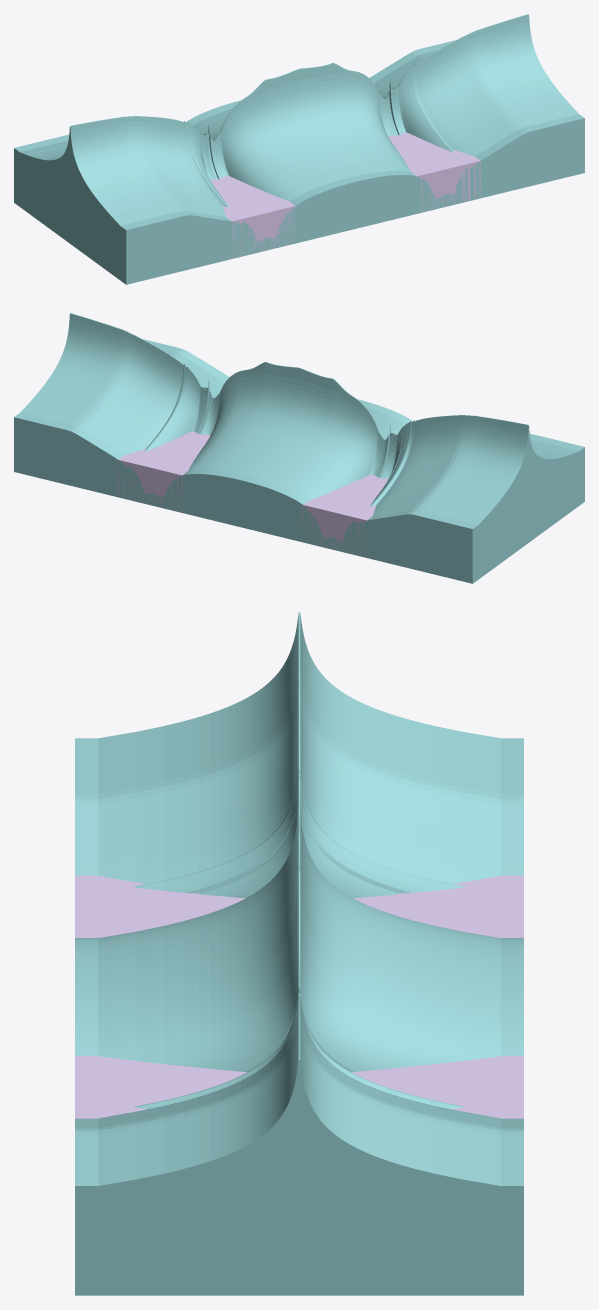
File: cfl-relief.glb
3 views of the same model, one above another, from view 1: azimuth 30°, elevation 25°; view 2: azimuth 150°, elevation 25°; view 3: azimuth 270°, elevation 25° (orthographic). The views are drawn at different scales.
Visible parts, largest first — view 1: Moment5Fixed, Moment1Fixed, Moment1Shelf, Moment2Fixed, Moment3Fixed, Moment1Valley, Moment4Fixed; view 2: Moment5Fixed, Moment1Fixed, Moment2Fixed, Moment1Shelf, Moment3Fixed, Moment1Valley, Moment4Fixed, Moment2Valley, Moment3Valley, Moment4Valley; view 3: Moment5Fixed, Moment1Fixed, Moment1Shelf, Moment2Fixed, Moment3Fixed, Moment4Fixed, Moment5Shelf.
Part boxes in pixels (x1=…): Moment5Fixed: x1=14, y1=14, x2=578, y2=278; Moment1Fixed: x1=14, y1=94, x2=584, y2=284; Moment1Shelf: x1=211, y1=82, x2=480, y2=258; Moment2Fixed: x1=14, y1=148, x2=399, y2=275; Moment3Fixed: x1=14, y1=95, x2=414, y2=276; Moment1Valley: x1=232, y1=162, x2=480, y2=258; Moment4Fixed: x1=14, y1=137, x2=404, y2=275; Moment5Fixed: x1=14, y1=313, x2=578, y2=581; Moment1Fixed: x1=14, y1=339, x2=584, y2=583; Moment2Fixed: x1=14, y1=415, x2=578, y2=582; Moment1Shelf: x1=116, y1=381, x2=388, y2=557; Moment3Fixed: x1=14, y1=394, x2=578, y2=581; Moment1Valley: x1=116, y1=460, x2=368, y2=558; Moment4Fixed: x1=14, y1=424, x2=578, y2=578; Moment2Valley: x1=117, y1=461, x2=367, y2=555; Moment3Valley: x1=118, y1=462, x2=367, y2=555; Moment4Valley: x1=119, y1=460, x2=367, y2=556; Moment5Fixed: x1=98, y1=612, x2=523, y2=1295; Moment1Fixed: x1=75, y1=738, x2=523, y2=1295; Moment1Shelf: x1=75, y1=875, x2=523, y2=1118; Moment2Fixed: x1=76, y1=963, x2=523, y2=1295; Moment3Fixed: x1=98, y1=955, x2=523, y2=1295; Moment4Fixed: x1=98, y1=945, x2=523, y2=1295; Moment5Shelf: x1=98, y1=875, x2=523, y2=1118.
Size of the model in its own units: 4 by 0.9902 by 1.7.
